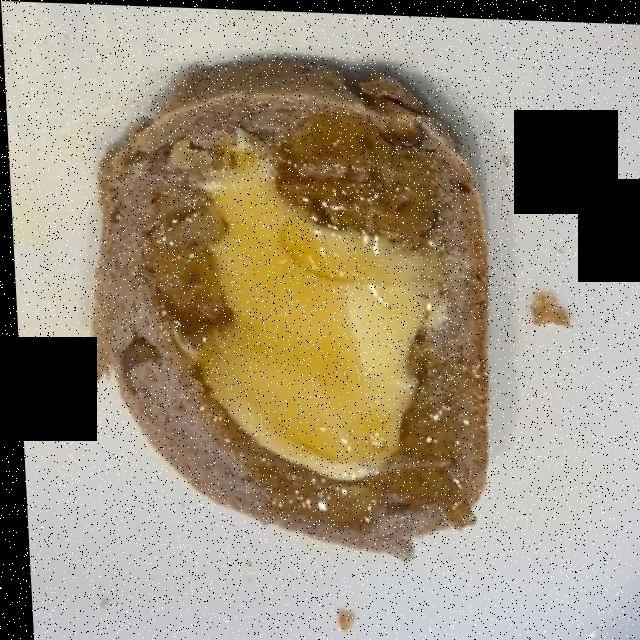bread: (90, 68, 491, 549)
butter: (192, 127, 431, 476)
honey: (153, 110, 465, 514)
